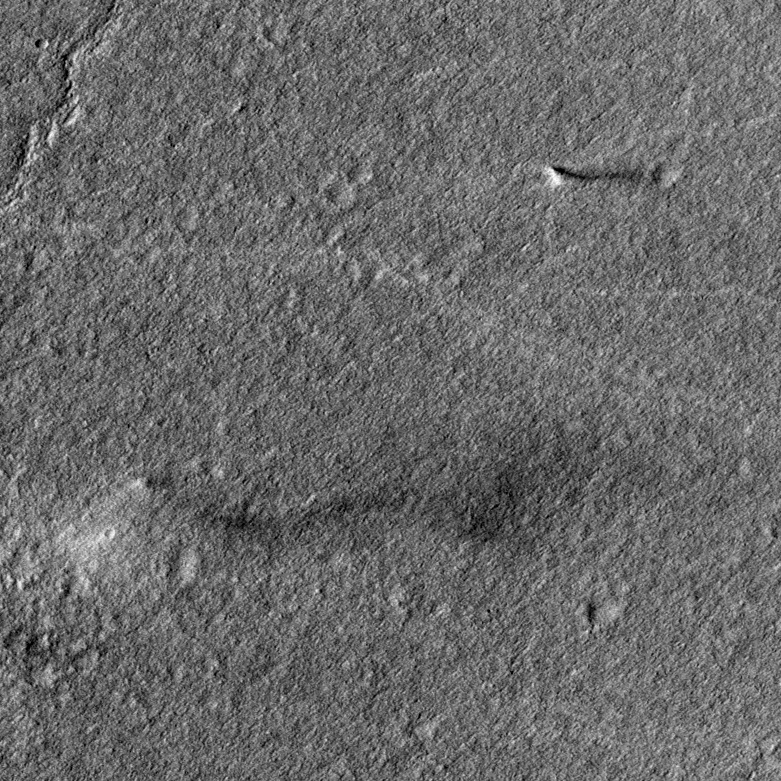dust_devil: (60, 468, 536, 590), (543, 164, 661, 191)
